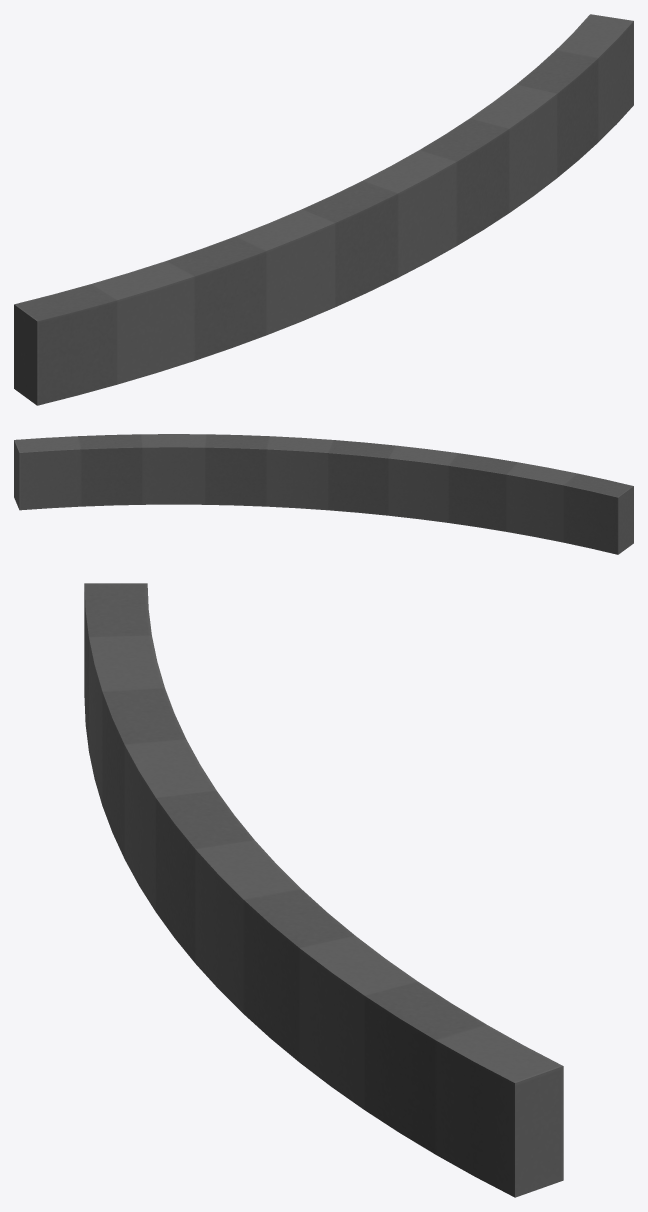
File: Wall_L_40.glb
3 renders of one model, top to bottom at view 1: azimuth 30°, elevation 25°; view 2: azimuth 150°, elevation 25°; view 3: azimuth 270°, elevation 25°, orthographic. The views are drawn at different scales.
Parts seen in each view (by area): view 1: Wall_L_40; view 2: Wall_L_40; view 3: Wall_L_40.
Boxes of the visible parts, box(x1,y1,x2,y2) form: Wall_L_40: box(14, 14, 633, 405); Wall_L_40: box(14, 434, 633, 554); Wall_L_40: box(84, 583, 563, 1197).
Size of the model in its own units: 9.37 by 1 by 3.79.
Materials: 1 (1 with a texture image).
